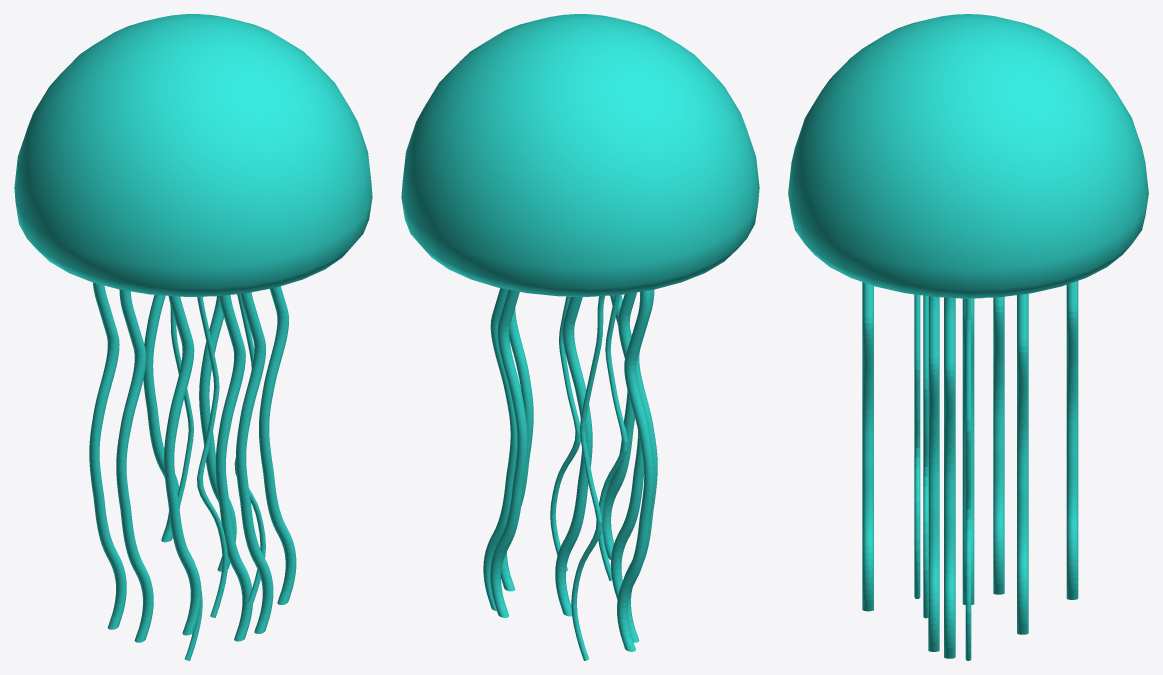
The model's file is JellyFish.fbx.
The picture shows the model from 3 angles, left to right: view 1: azimuth 30°, elevation 25°; view 2: azimuth 150°, elevation 25°; view 3: azimuth 270°, elevation 25°; orthographic projection.
Visible parts, largest first — view 1: JellyMesh; view 2: JellyMesh; view 3: JellyMesh.
Part boxes in pixels (x1,y1,x2,y2): JellyMesh: [14, 14, 372, 660]; JellyMesh: [401, 14, 759, 660]; JellyMesh: [788, 14, 1148, 660].
Bounding box in the file's own units: 200 × 387 × 200.
